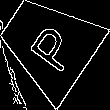P_NW: (18, 14, 77, 74)
